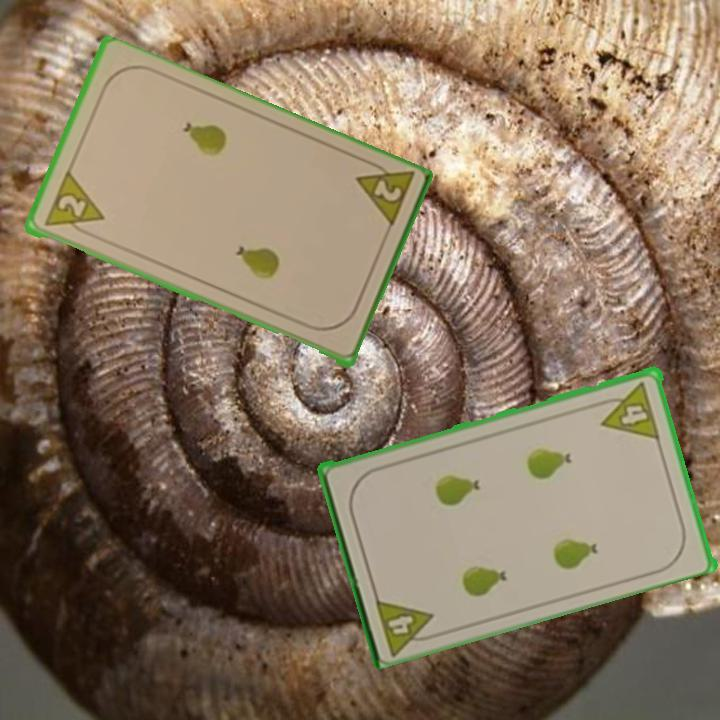2p: (351, 155, 416, 233), (40, 170, 107, 240)
4p: (371, 592, 442, 656), (594, 377, 662, 442)
